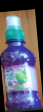blueberries: (1, 15, 43, 110)
